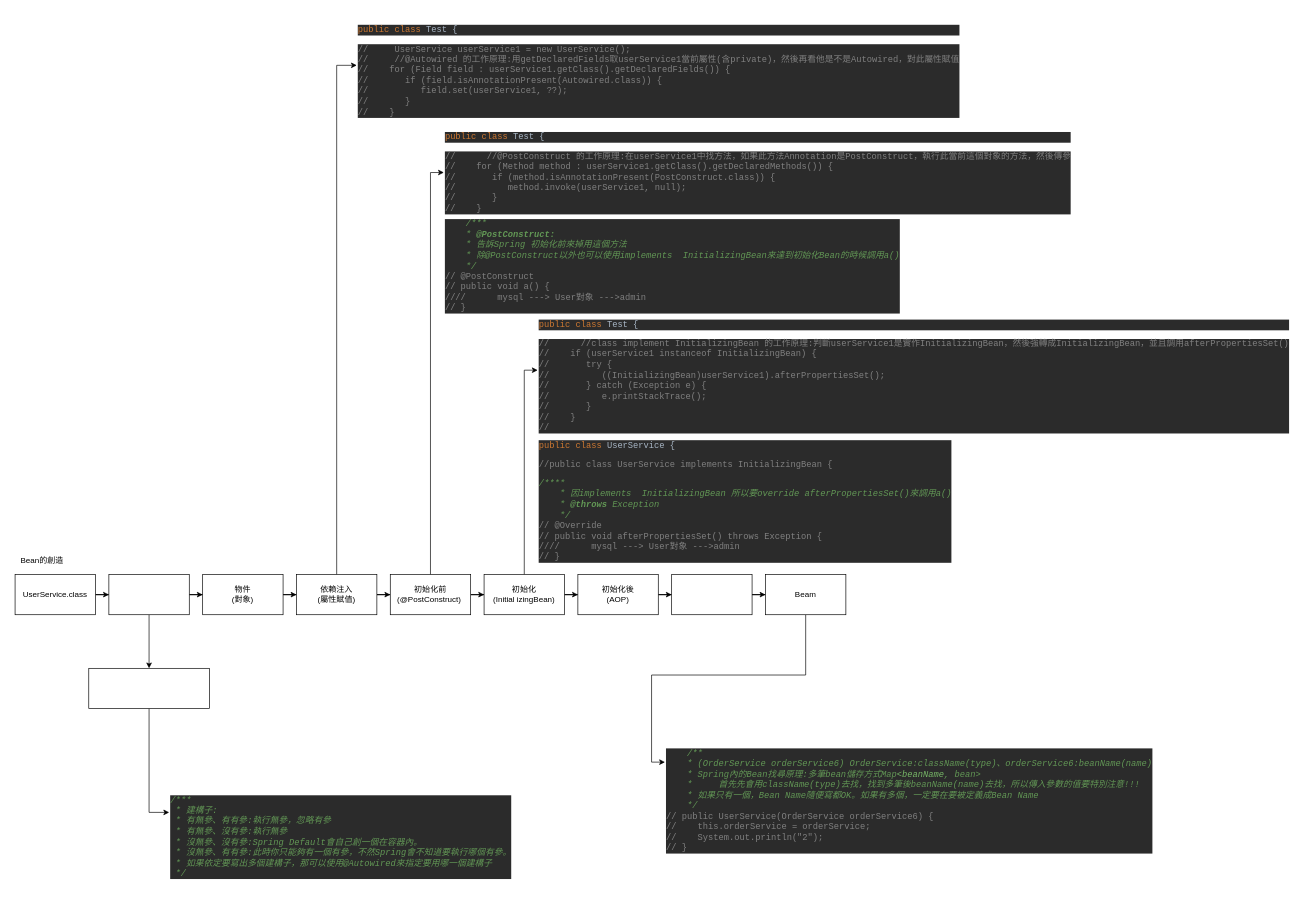
Image size: 1300x914. Some labels were removed from this diagram. Each missing label, with the box of its shape:
代理物件 (代理對象): (671, 574, 752, 615)
無參建構子 （無參構造方法）: (108, 574, 189, 615)
這就跟new一樣 但是new出來無參建構子， 裡面的orderService就會是null: (88, 668, 209, 709)
